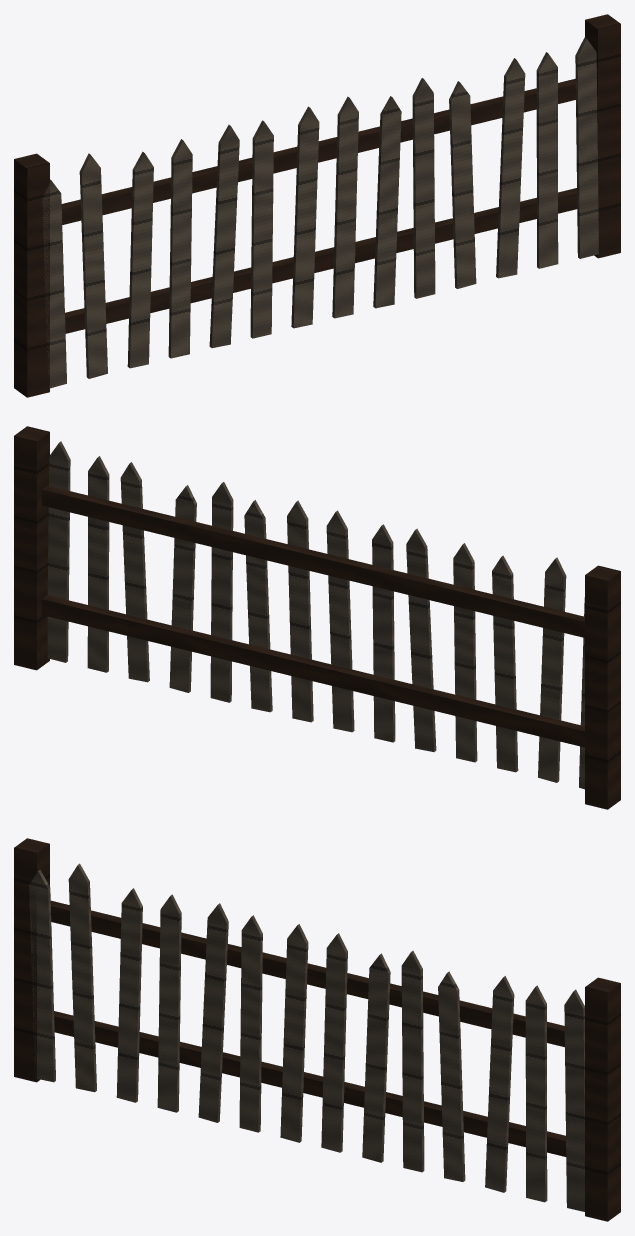
The model's file is fence_wooden.glb.
3 renders of one model, top to bottom at view 1: azimuth 30°, elevation 25°; view 2: azimuth 150°, elevation 25°; view 3: azimuth 330°, elevation 25°, orthographic.
Parts seen in each view (by area): view 1: fence_wooden; view 2: fence_wooden; view 3: fence_wooden.
Boxes of the visible parts, left/top/right/bottom form: fence_wooden: left=14, top=14, right=620, bottom=397; fence_wooden: left=14, top=426, right=620, bottom=809; fence_wooden: left=14, top=838, right=620, bottom=1221.
Size of what is drawn, in the model's own units: 3.12 by 1.15 by 0.12.
Materials: 2 (2 with a texture image).
